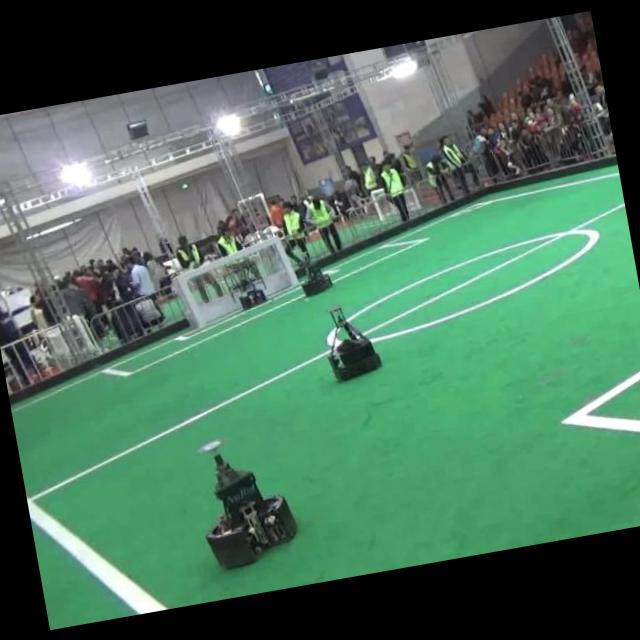goal: (177, 276, 205, 328), (272, 237, 298, 285)
robot: (198, 440, 297, 568), (328, 307, 381, 378), (223, 258, 267, 310), (301, 255, 332, 297)
